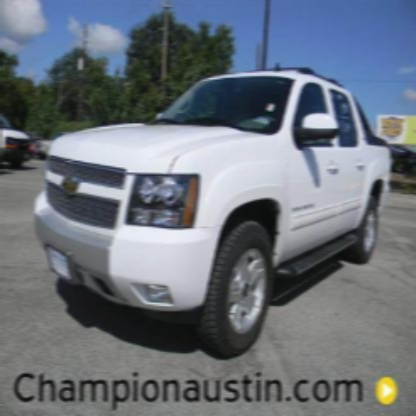Vehicle: (35, 63, 391, 361)
